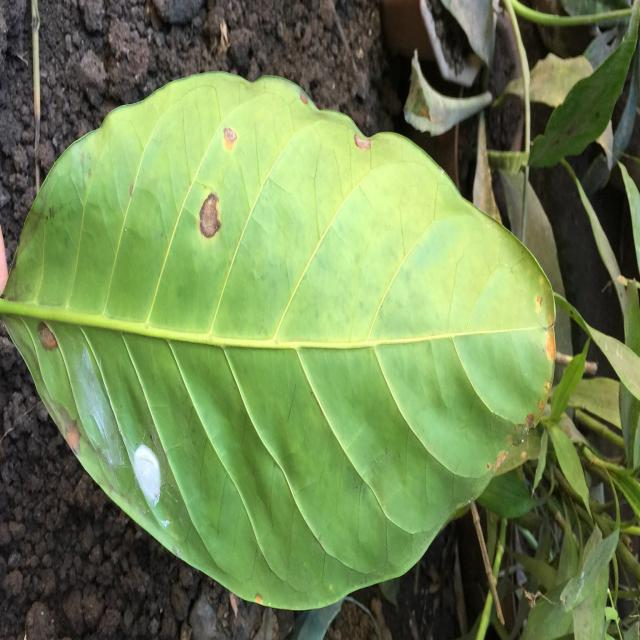Enfermedad-Mancha-de-hierro: (0, 72, 558, 612)
